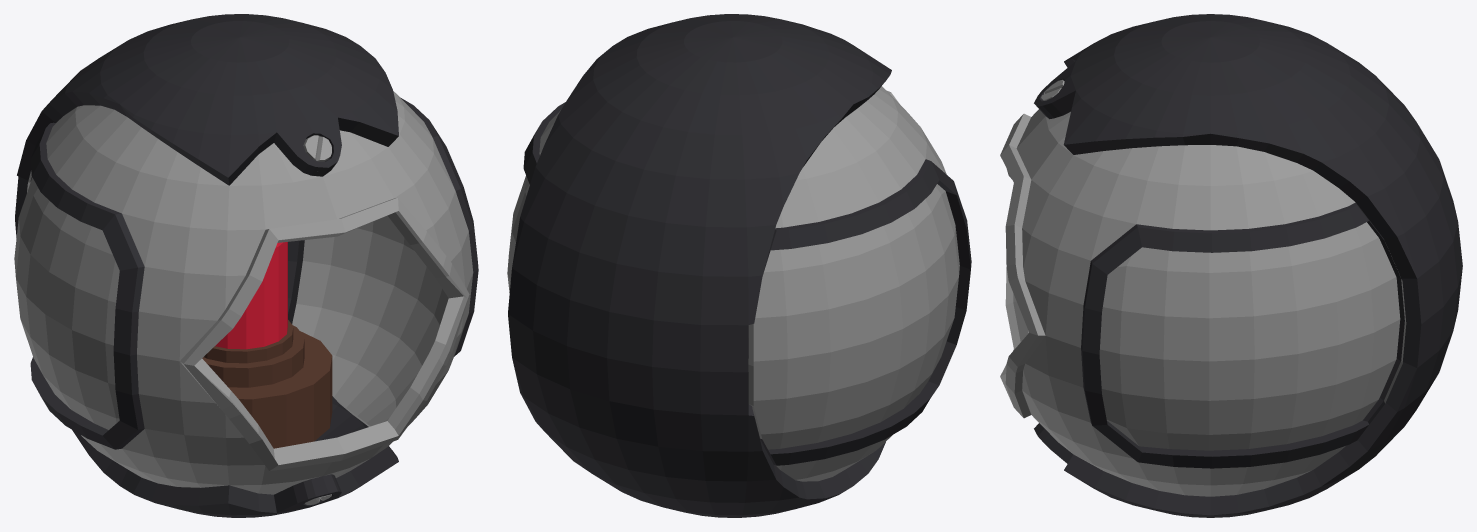
The model's file is enemy3_target.fbx.
The picture shows the model from 3 angles, left to right: view 1: azimuth 30°, elevation 25°; view 2: azimuth 150°, elevation 25°; view 3: azimuth 270°, elevation 25°; orthographic projection.
Visible parts, largest first — view 1: ball, door; view 2: ball; view 3: ball.
Part boxes in pixels (bbox=[...]): ball: bbox=[14, 14, 478, 517]; door: bbox=[237, 143, 304, 323]; ball: bbox=[507, 14, 971, 517]; ball: bbox=[1000, 14, 1462, 517].
Bounding box in the file's own units: 487 × 544 × 499.
